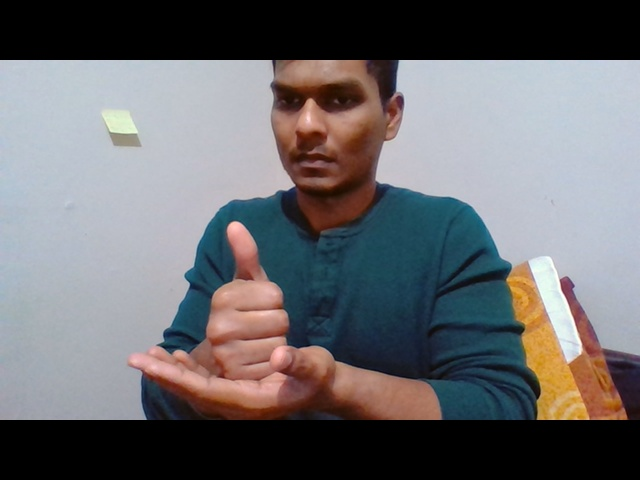Help: (128, 220, 338, 420)
